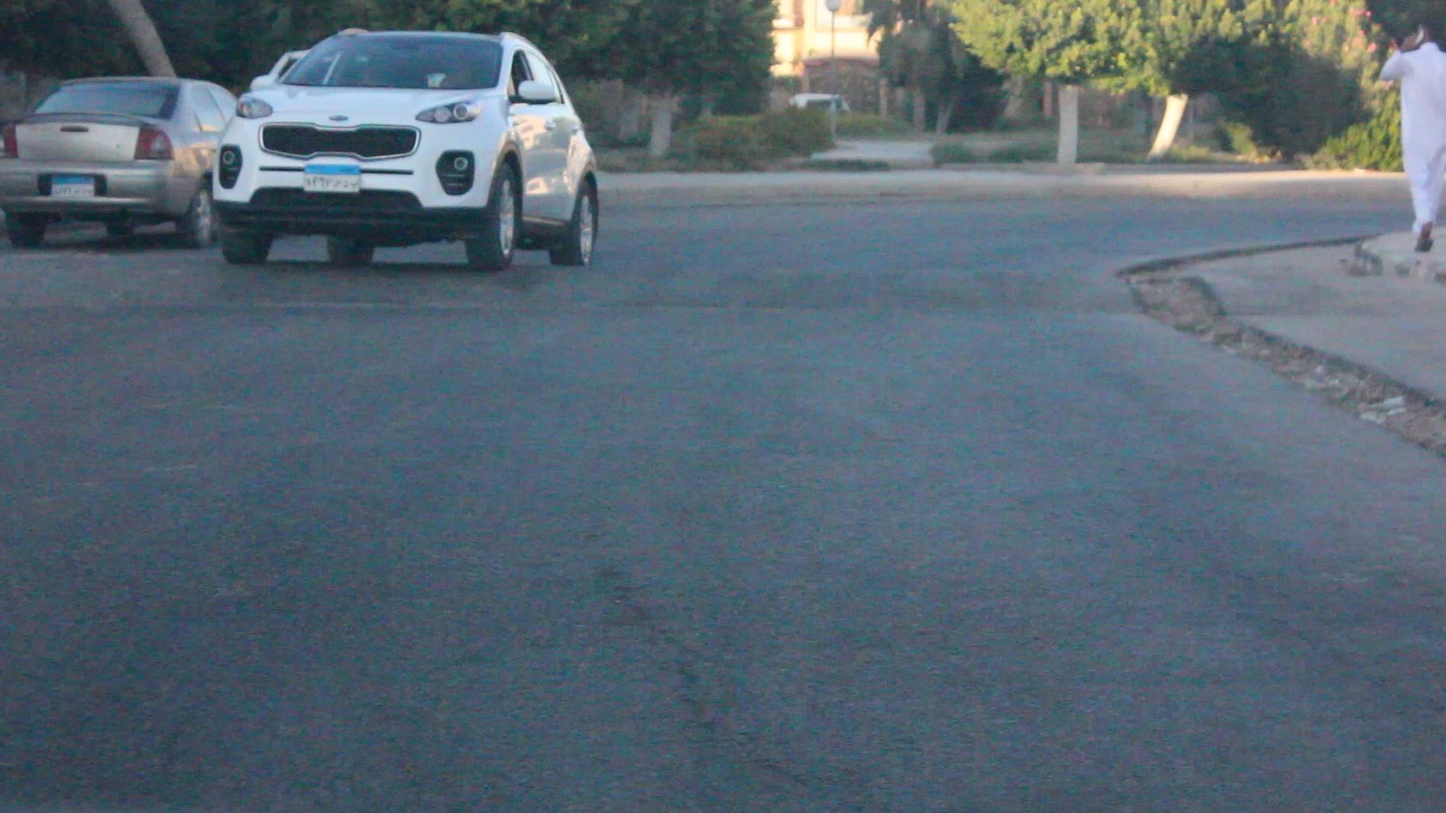Bump: (6, 239, 1135, 327)
